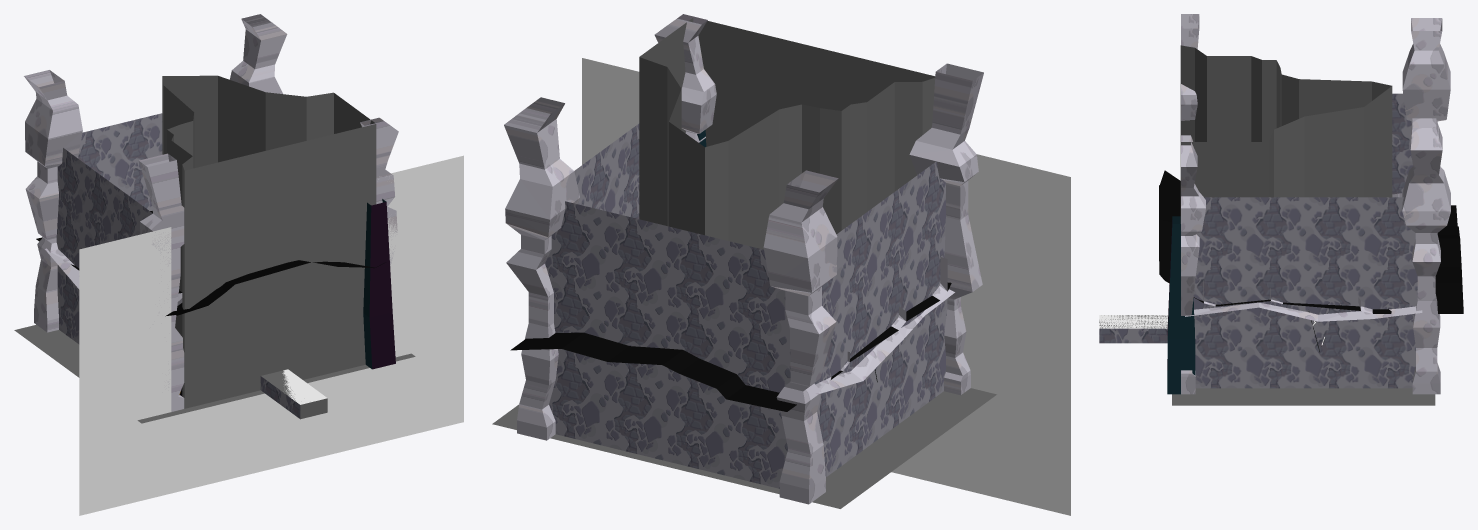
The model's file is jin_05.dae.
The picture shows the model from 3 angles, left to right: view 1: azimuth 30°, elevation 25°; view 2: azimuth 150°, elevation 25°; view 3: azimuth 270°, elevation 25°; orthographic projection. The views are drawn at different scales.
Visible parts, largest first — view 1: S_msk, a_gawa01, S_hasi, S_kabe, a_hashira01, a_yuka, a_hashira02, a_ana, pPlane452, pCube56, S_hari; view 2: S_kabe, a_gawa01, S_hasi, S_msk, a_yuka, a_hashira02, S_hari; view 3: S_kabe, a_gawa01, S_hasi, a_hashira02, a_yuka, a_hashira01, S_hari, pCube56, pPlane452, a_ana.
Boxes of the visible parts, left/top/right/bottom form: S_msk: left=79, top=155, right=463, bottom=515; a_gawa01: left=162, top=75, right=376, bottom=408; S_hasi: left=24, top=14, right=398, bottom=411; S_kabe: left=56, top=113, right=162, bottom=344; a_hashira01: left=363, top=199, right=395, bottom=369; a_yuka: left=14, top=324, right=415, bottom=423; a_hashira02: left=36, top=211, right=385, bottom=316; a_ana: left=261, top=370, right=327, bottom=419; pPlane452: left=282, top=369, right=327, bottom=404; pCube56: left=260, top=376, right=300, bottom=418; S_hari: left=45, top=248, right=182, bottom=305; S_kabe: left=545, top=123, right=947, bottom=488; a_gawa01: left=639, top=18, right=935, bottom=249; S_hasi: left=504, top=14, right=983, bottom=504; S_msk: left=582, top=58, right=1070, bottom=515; a_yuka: left=492, top=388, right=996, bottom=508; a_hashira02: left=510, top=282, right=951, bottom=411; S_hari: left=815, top=257, right=954, bottom=394; S_kabe: left=1193, top=93, right=1417, bottom=388; a_gawa01: left=1180, top=45, right=1392, bottom=223; S_hasi: left=1181, top=14, right=1450, bottom=394; a_hashira02: left=1159, top=170, right=1463, bottom=313; a_yuka: left=1172, top=388, right=1435, bottom=405; a_hashira01: left=1167, top=216, right=1195, bottom=394; S_hari: left=1185, top=193, right=1422, bottom=321; pCube56: left=1099, top=328, right=1167, bottom=343; pPlane452: left=1099, top=315, right=1168, bottom=328; a_ana: left=1099, top=315, right=1167, bottom=328.
Size of the model in its own units: 56.03 by 46.93 by 44.59.
